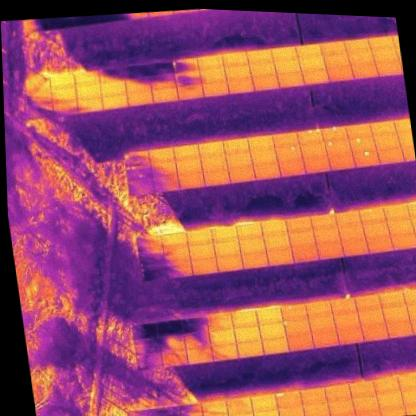Hotspot: (378, 290, 406, 310), (274, 390, 302, 410), (352, 148, 380, 168), (330, 297, 358, 316), (274, 144, 302, 163), (280, 303, 307, 322), (282, 318, 310, 336), (150, 161, 178, 179), (348, 135, 376, 153), (296, 128, 324, 146), (359, 205, 385, 224), (123, 148, 150, 166), (321, 125, 348, 143), (325, 139, 352, 155), (126, 163, 152, 179)
Normal: (377, 391, 405, 414), (250, 391, 278, 414), (348, 378, 377, 400), (324, 382, 353, 403), (305, 300, 333, 321), (241, 250, 269, 271), (265, 246, 293, 267), (360, 322, 389, 342), (189, 256, 218, 276), (235, 221, 264, 241), (299, 386, 328, 406), (327, 151, 356, 171), (373, 375, 402, 395), (235, 338, 264, 358), (286, 332, 315, 352), (375, 145, 405, 164), (352, 396, 380, 416), (285, 214, 313, 234), (216, 253, 243, 273), (188, 241, 215, 261), (289, 229, 316, 249), (262, 336, 289, 356), (312, 329, 339, 349), (336, 326, 364, 345), (233, 324, 261, 343), (263, 233, 291, 252), (312, 226, 340, 245), (382, 203, 410, 222), (372, 132, 400, 151), (148, 145, 176, 164), (172, 142, 200, 161), (369, 118, 397, 137), (276, 70, 304, 89), (325, 64, 353, 83), (371, 45, 399, 64), (357, 308, 386, 326), (381, 305, 410, 323), (252, 161, 281, 179), (374, 60, 403, 78), (390, 231, 416, 251), (226, 395, 252, 415), (327, 397, 354, 416), (333, 311, 360, 330), (207, 312, 234, 331), (232, 310, 259, 329), (256, 307, 283, 326), (291, 245, 318, 264), (366, 235, 393, 254), (186, 227, 213, 246), (211, 225, 238, 244), (334, 209, 361, 228), (225, 149, 252, 168), (248, 134, 275, 153), (102, 92, 129, 111), (227, 76, 254, 95), (73, 68, 100, 87), (271, 44, 298, 63), (385, 320, 413, 338), (308, 316, 336, 334), (315, 241, 343, 259), (338, 224, 366, 242), (386, 218, 414, 236), (160, 230, 188, 248), (260, 219, 288, 237), (177, 171, 205, 189), (203, 168, 231, 186), (227, 164, 255, 182), (302, 155, 330, 173), (175, 157, 203, 175), (250, 148, 278, 166), (299, 142, 327, 160), (272, 130, 300, 148), (151, 86, 179, 104), (176, 83, 204, 101), (50, 85, 78, 103), (245, 47, 273, 65), (341, 237, 367, 256), (351, 61, 377, 80), (209, 328, 236, 346), (259, 322, 286, 340), (354, 294, 381, 312), (277, 157, 304, 175), (198, 141, 225, 159), (222, 136, 249, 154), (202, 80, 229, 98), (251, 74, 278, 92), (75, 82, 102, 100), (302, 67, 329, 85), (99, 79, 126, 97), (298, 54, 325, 72), (222, 50, 249, 68), (238, 237, 266, 254), (248, 60, 276, 77), (320, 40, 348, 57), (363, 222, 389, 240), (310, 212, 336, 230), (201, 153, 227, 171), (200, 66, 226, 84), (214, 240, 241, 257), (345, 122, 372, 139), (127, 90, 154, 107), (48, 72, 75, 89), (347, 49, 374, 66), (274, 58, 302, 74), (225, 64, 251, 81), (323, 52, 349, 69), (197, 53, 223, 70), (296, 42, 322, 59), (345, 36, 371, 53), (368, 34, 395, 50), (302, 402, 330, 416), (396, 373, 416, 392), (401, 388, 416, 409), (278, 405, 305, 416), (403, 286, 416, 305), (228, 409, 255, 416), (254, 409, 280, 416), (406, 302, 416, 319), (410, 315, 416, 334), (203, 413, 229, 416)
Shadow: (127, 175, 155, 196), (133, 335, 161, 355), (184, 330, 212, 350), (140, 262, 168, 282), (165, 259, 193, 279), (152, 174, 181, 193), (161, 347, 188, 367), (131, 321, 159, 340), (159, 332, 186, 351), (181, 315, 208, 334), (25, 86, 52, 105), (136, 350, 163, 369), (211, 342, 238, 361), (138, 247, 166, 265), (201, 398, 229, 416), (157, 318, 183, 337), (163, 244, 189, 263), (23, 74, 52, 91), (136, 233, 163, 251), (52, 100, 79, 118), (148, 61, 175, 79), (172, 56, 199, 74), (186, 345, 213, 363), (174, 69, 202, 86), (77, 96, 104, 113), (125, 77, 152, 94), (123, 65, 150, 82), (150, 75, 177, 91), (97, 66, 124, 82), (176, 401, 203, 416), (151, 404, 178, 416), (127, 407, 153, 416)
